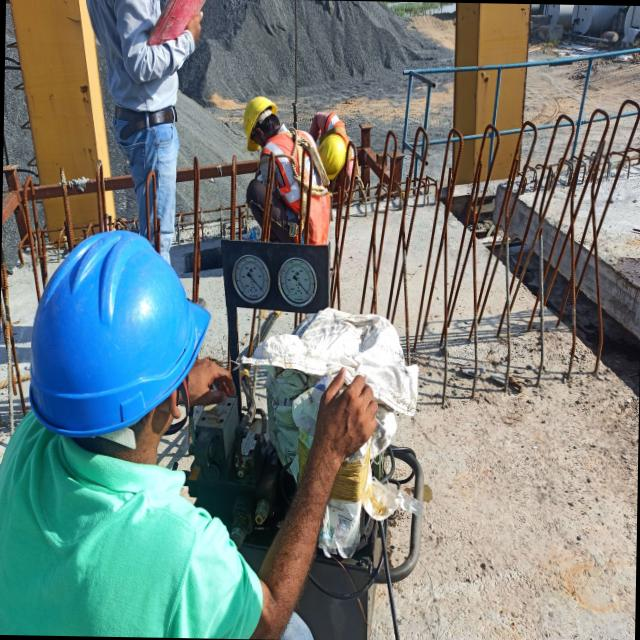cement: (406, 185, 435, 346), (510, 255, 541, 382), (478, 250, 507, 383), (340, 202, 374, 312), (448, 250, 474, 387), (417, 250, 444, 379), (8, 263, 37, 375), (199, 267, 228, 364), (377, 206, 402, 316), (446, 214, 470, 301), (541, 307, 570, 379), (424, 202, 444, 302), (200, 237, 255, 265), (170, 236, 193, 297), (158, 428, 191, 470), (474, 226, 492, 296), (394, 285, 405, 347), (237, 308, 252, 352), (269, 311, 295, 334), (47, 250, 64, 277), (0, 321, 5, 381)
white-sand: (296, 0, 454, 149), (176, 0, 294, 167), (97, 45, 128, 175), (524, 63, 586, 124), (3, 68, 37, 171), (584, 56, 640, 117), (426, 73, 453, 138)
